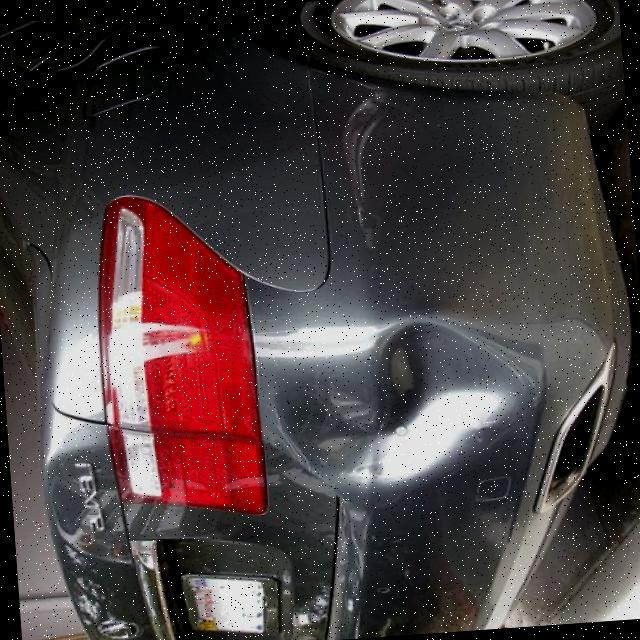Dent: (295, 262, 523, 518)
